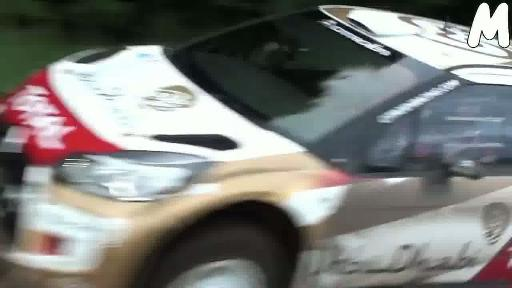CAR: (5, 2, 512, 288)
